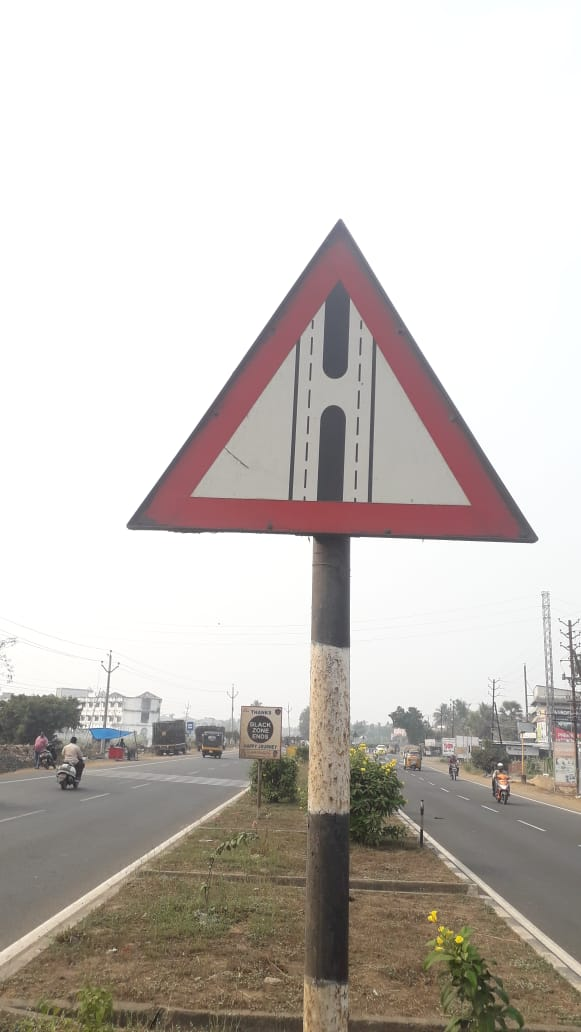highway go straight: (104, 194, 538, 598)
